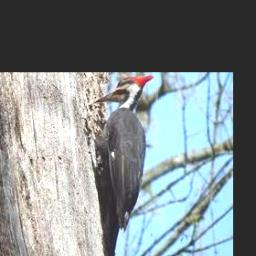Woodpecker: (91, 75, 154, 231)
